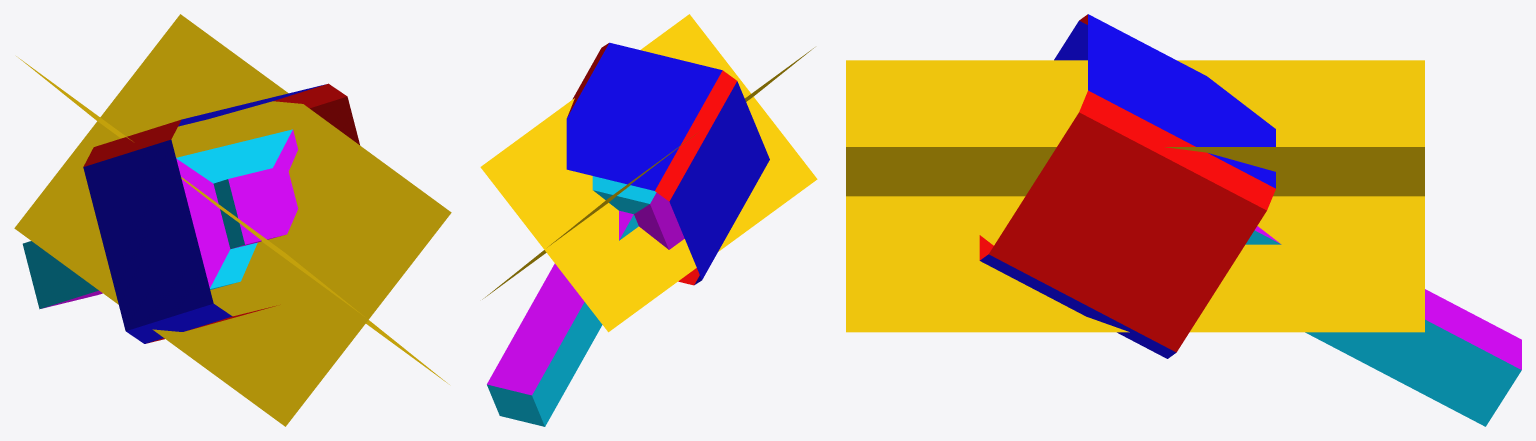
File: torch_wall.obj
3 renders of one model, left to right at view 1: azimuth 30°, elevation 25°; view 2: azimuth 150°, elevation 25°; view 3: azimuth 270°, elevation 25°, orthographic. The views are drawn at different scales.
Parts seen in each view (by area): view 1: Torch_Wall_Cube.003; view 2: Torch_Wall_Cube.003; view 3: Torch_Wall_Cube.003.
Boxes of the visible parts, bbox=[...] form: Torch_Wall_Cube.003: bbox=[14, 14, 451, 426]; Torch_Wall_Cube.003: bbox=[480, 14, 817, 426]; Torch_Wall_Cube.003: bbox=[846, 14, 1521, 426].
Bounding box in the file's own units: 0.375 × 0.6853 × 1.17.
